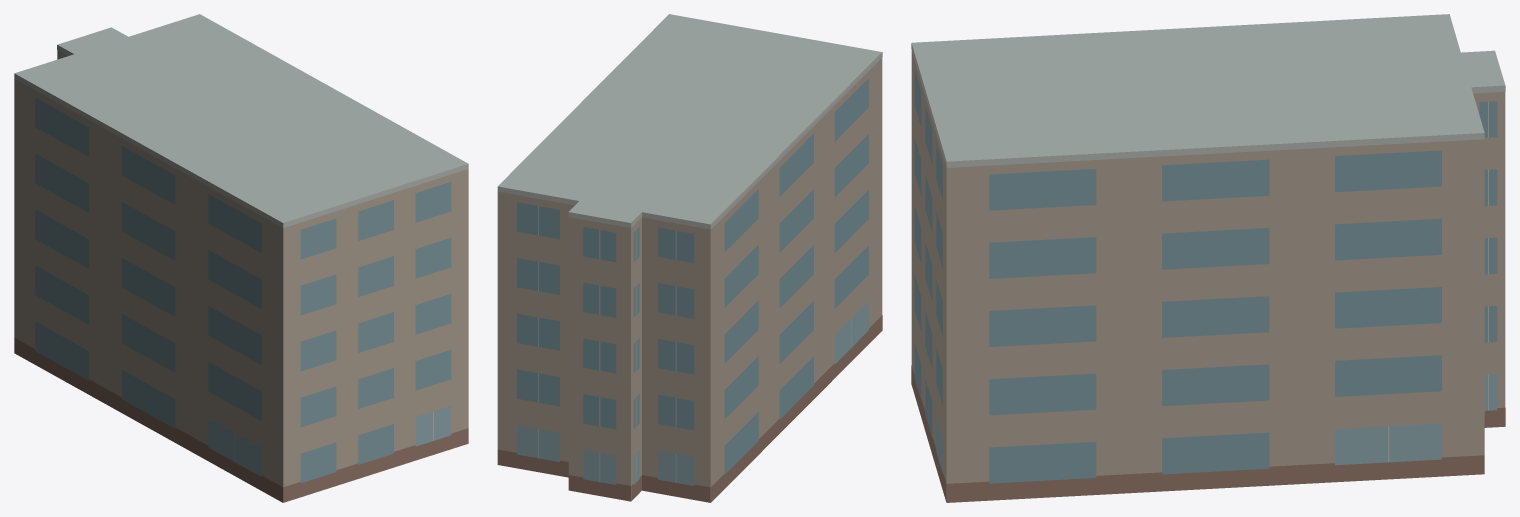
Rendered from survey-upis-32701544.glb.
3 renders of one model, left to right at view 1: azimuth 30°, elevation 25°; view 2: azimuth 150°, elevation 25°; view 3: azimuth 270°, elevation 25°, orthographic. The views are drawn at different scales.
Visible parts, largest first — view 1: survey-upis-32701544.tmp; view 2: survey-upis-32701544.tmp; view 3: survey-upis-32701544.tmp.
Boxes of the visible parts, box(x1,y1,x2,y2) form: survey-upis-32701544.tmp: box(14, 14, 468, 502); survey-upis-32701544.tmp: box(497, 14, 882, 502); survey-upis-32701544.tmp: box(911, 14, 1505, 502).
Size of the model in its own units: 12.35 by 13.3 by 20.99.
